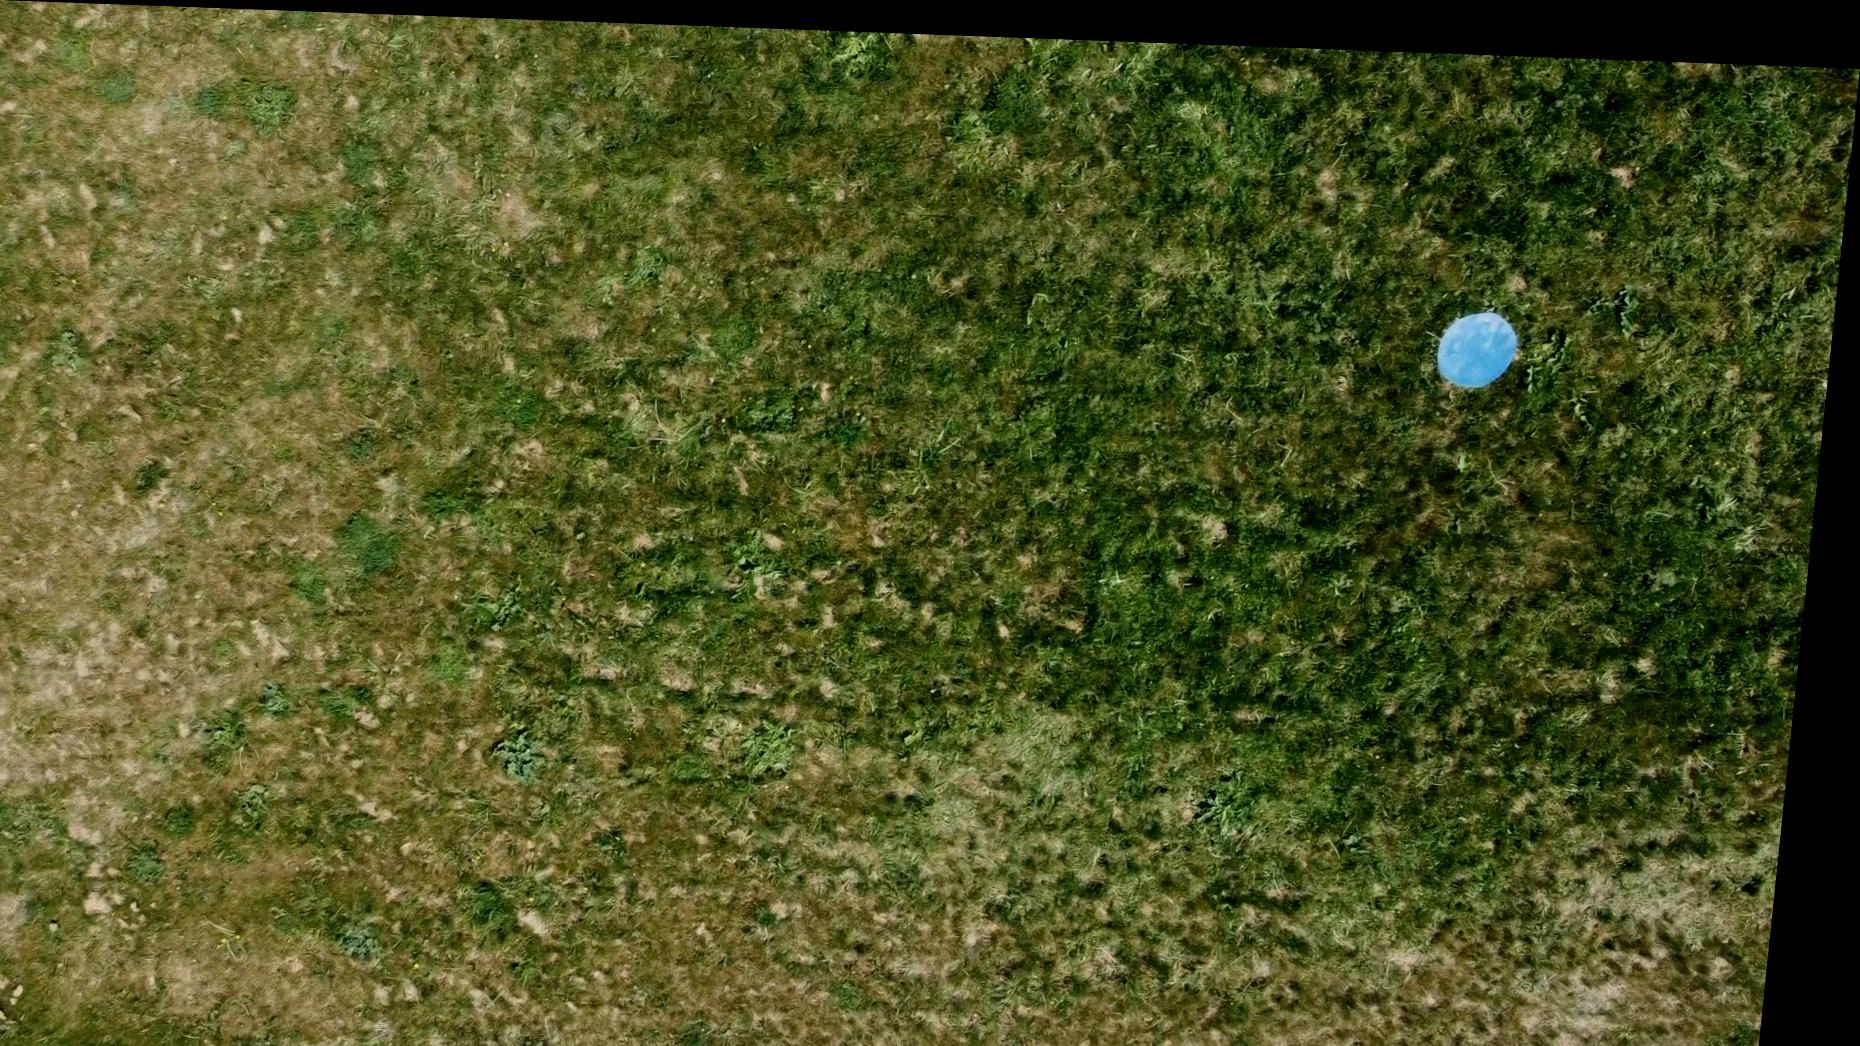Blue: (1437, 296, 1530, 381)
